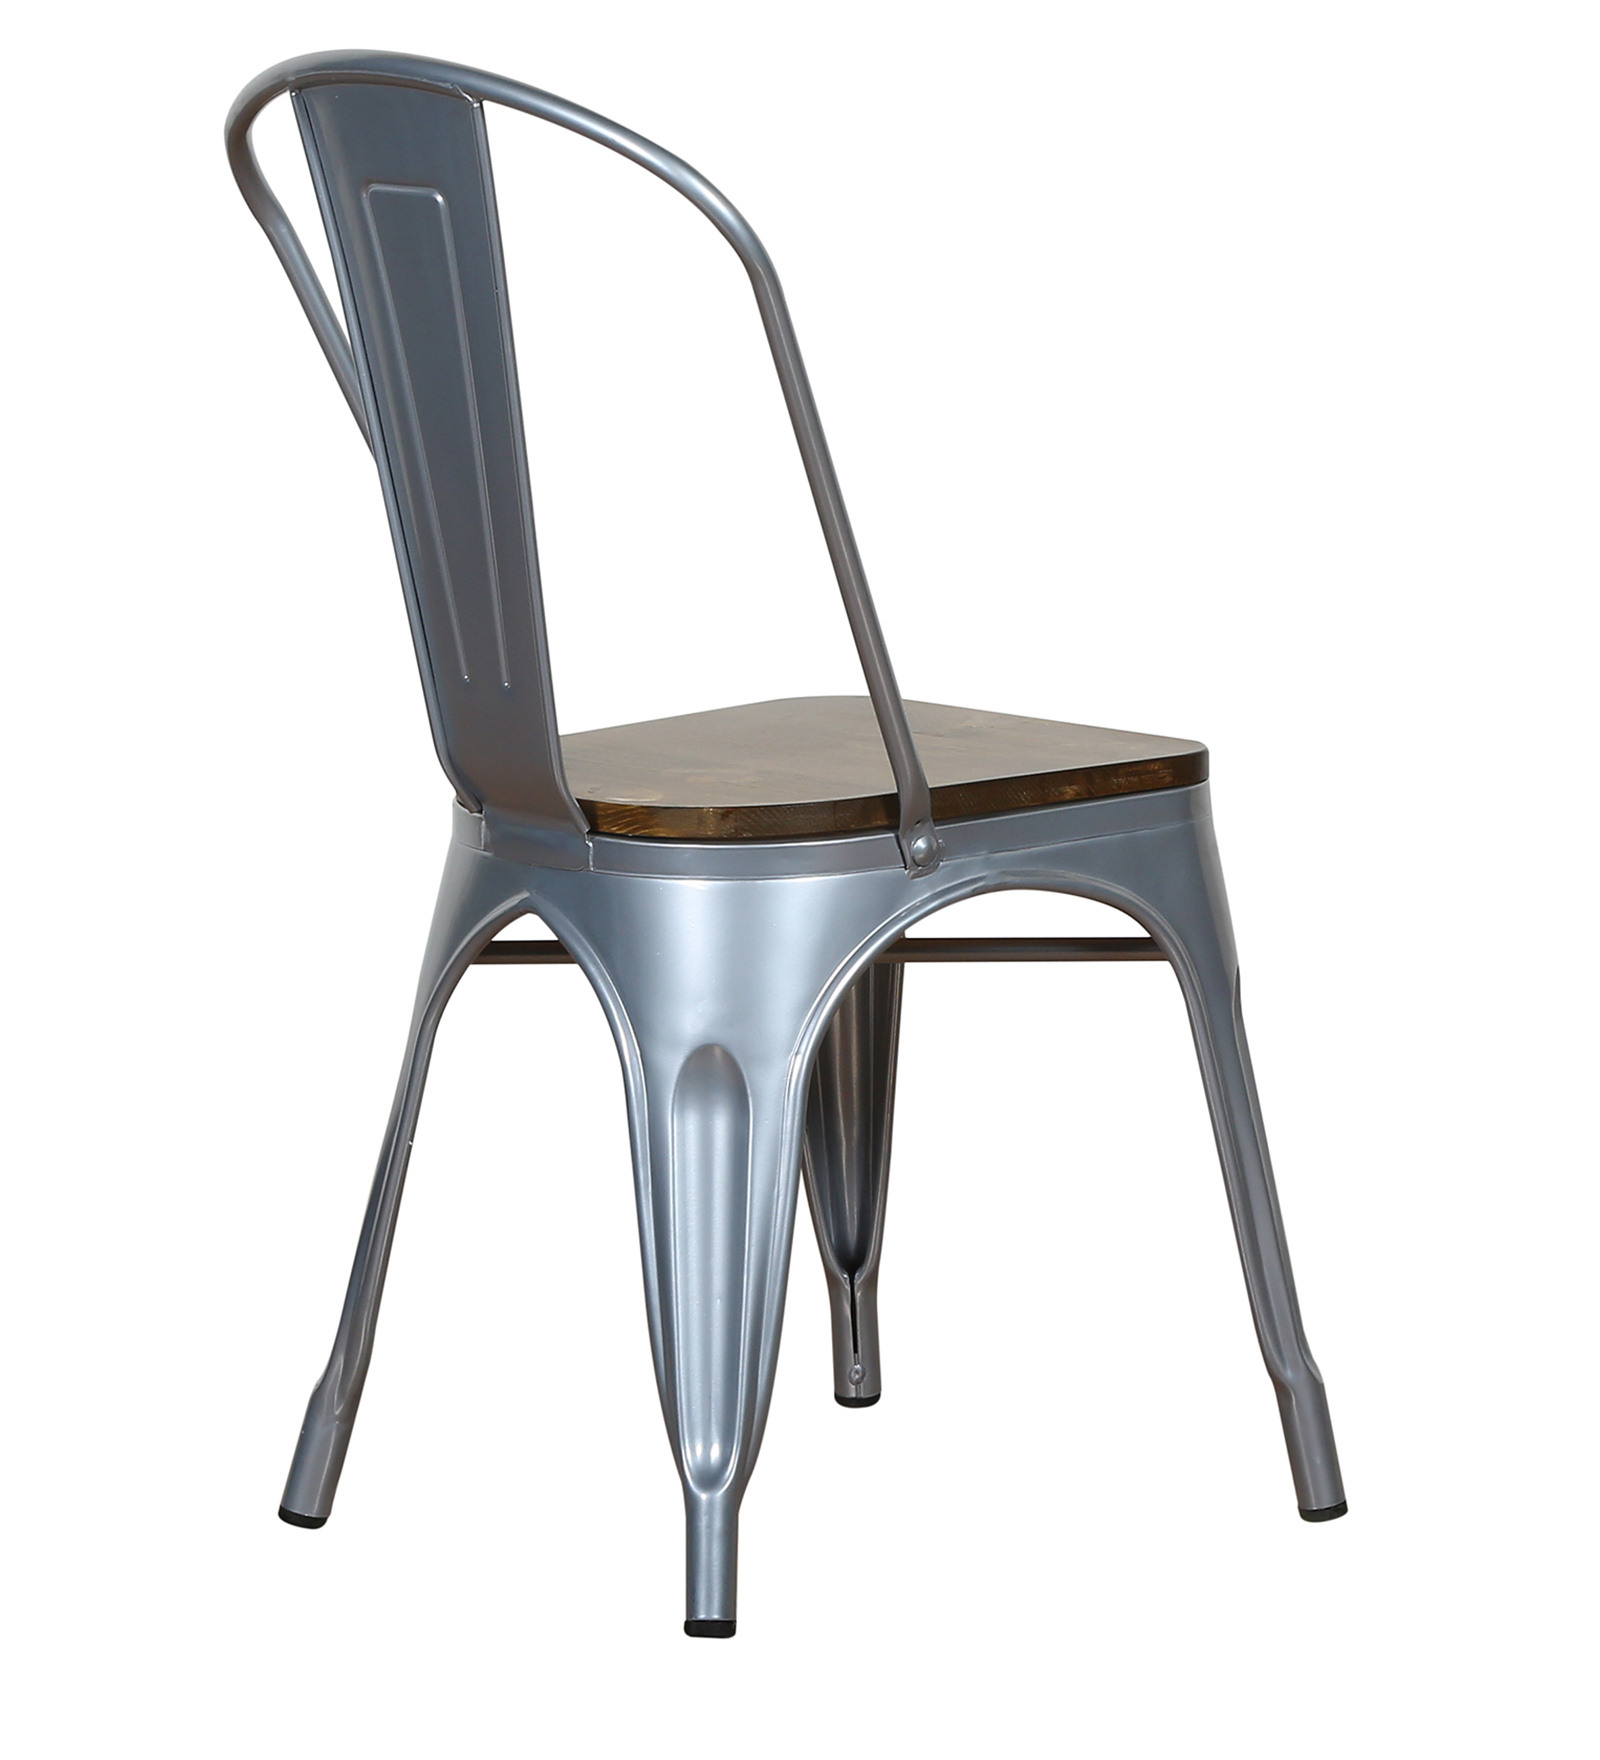Loy Metal Chair (Set of 2) in Silver Colour with Wooden Seat by Bohemiana: (211, 43, 1367, 1637)
